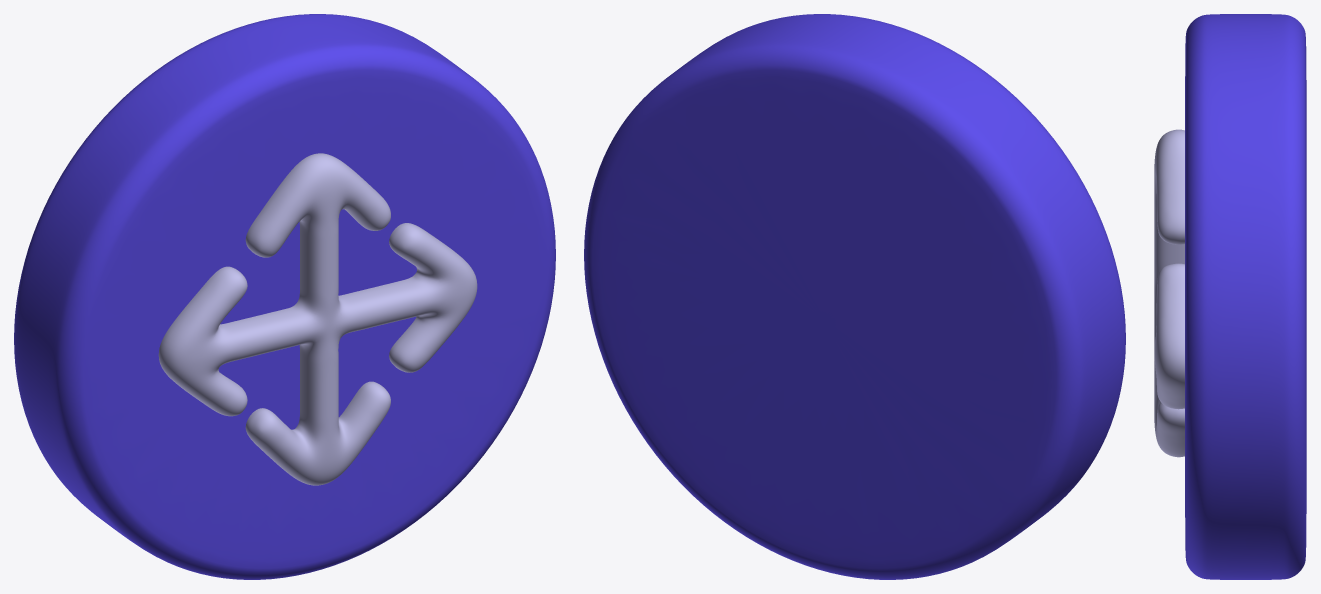
File: move-animated-3d-icon-143342486866.glb
3 renders of one model, left to right at view 1: azimuth 30°, elevation 25°; view 2: azimuth 150°, elevation 25°; view 3: azimuth 270°, elevation 25°, orthographic.
Visible parts, largest first — view 1: Base.001, Move Arrow; view 2: Base.001; view 3: Base.001, Move Arrow.
Part boxes in pixels (x1,y1,x2,y2): Base.001: (14, 14, 555, 579); Move Arrow: (158, 153, 477, 485); Base.001: (584, 14, 1125, 579); Base.001: (1185, 14, 1306, 579); Move Arrow: (1154, 129, 1184, 457).
Size of the model in its own units: 1.99 by 1.99 by 0.5356.
